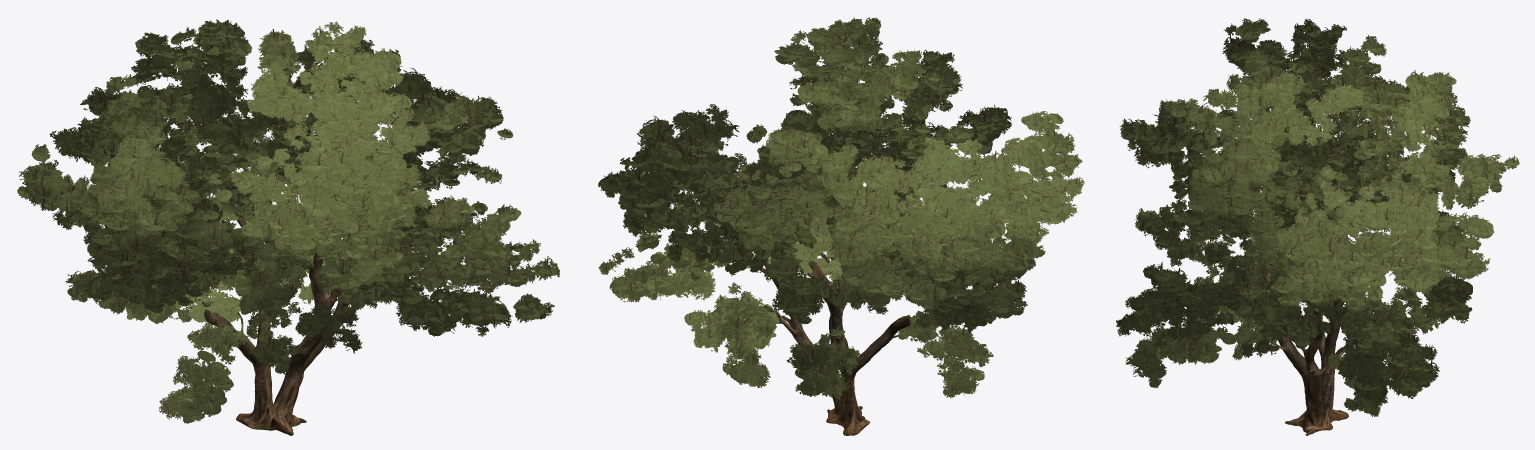
Rendered from tree_broad_near.glb.
3 renders of one model, left to right at view 1: azimuth 30°, elevation 25°; view 2: azimuth 150°, elevation 25°; view 3: azimuth 270°, elevation 25°, orthographic. The views are drawn at different scales.
Visible parts, largest first — view 1: tree_broad_near; view 2: tree_broad_near; view 3: tree_broad_near.
Boxes of the visible parts, x1,y1,x2,y2 form: tree_broad_near: (17,19,559,435); tree_broad_near: (598,17,1084,435); tree_broad_near: (1116,18,1519,435).
Bounding box in the file's own units: 24.7 × 19.73 × 19.39.
2 materials, 2 textured.
